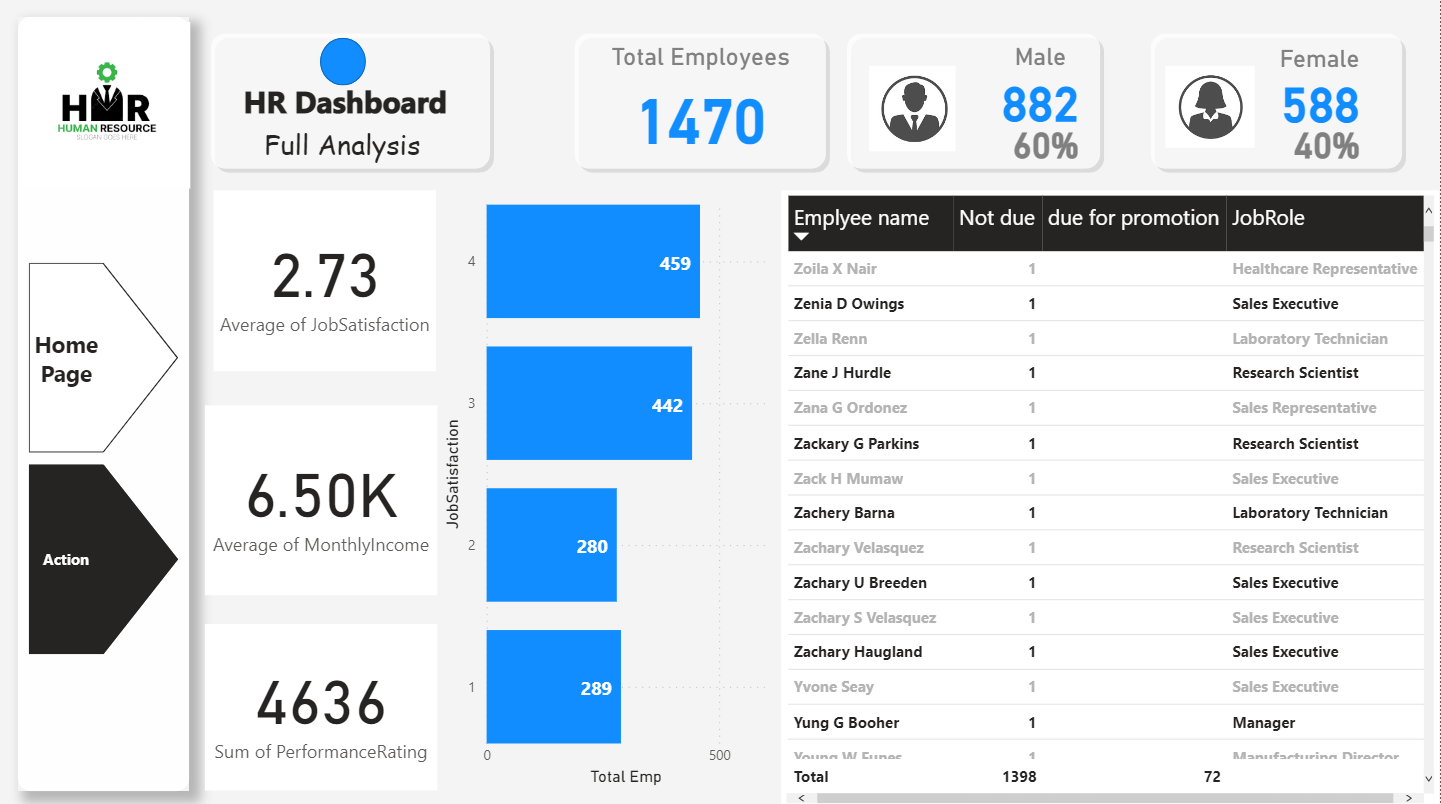

Layout of this report page (visuals, bound fields, positions):
{"tool":"powerbi","page":{"name":"Action","canvas":[1280,720],"ordinal":1},"visuals":[{"type":"shape","box":[15.7,15.7,153.2,688.6],"z":0},{"type":"shape","box":[182.1,25.3,258.1,130.3],"z":1000},{"type":"shape","box":[505.3,25.3,234,130.3],"z":3000},{"type":"shape","box":[747.7,25.3,235.2,130.3],"z":4000},{"type":"shape","box":[1017.9,25.3,234,130.3],"z":5000},{"type":"textbox","box":[190.6,67.5,234,48.2],"z":11000},{"type":"textbox","box":[202.6,107.3,203.8,48.2],"z":12000},{"type":"shape","box":[284.6,35,41,42.2],"z":13000},{"type":"card","title":"Total Employees","fields":{"Values":["New Measures.Total Emp"]},"box":[517.5,38.8,210,103.8],"z":14000},{"type":"card","title":"Male","fields":{"Values":["New Measures.Male"]},"box":[855.1,38.6,138.7,77.2],"z":15000},{"type":"card","title":"Female","fields":{"Values":["New Measures.Female"]},"box":[1107.1,39.8,132.7,76],"z":16000},{"type":"card","title":"Male","fields":{"Values":["New Measures.%mal"]},"box":[865.9,107.3,127.8,41],"z":17000},{"type":"card","title":"Male","fields":{"Values":["New Measures.%femal"]},"box":[1107.1,107.3,145.9,41],"z":18000},{"type":"image","box":[1031.2,47,89.2,97.7],"z":19000},{"type":"image","box":[768.2,47,86.8,101.3],"z":20000},{"type":"tableEx","fields":{"Values":["HR employee data.Emplyee name","New Measures.Not due","New Measures.due for promotion","HR Analytics Data.JobRole"]},"box":[694.7,170.1,584.9,549.9],"z":20001},{"type":"card","fields":{"Values":["HR Analytics Data.JobSatisfaction"]},"box":[190.6,170.1,197.8,160.4],"z":20002},{"type":"card","fields":{"Values":["HR Analytics Data.MonthlyIncome"]},"box":[182.1,360.6,206.2,168.8],"z":20003},{"type":"card","fields":{"Values":["HR Analytics Data.PerformanceRating"]},"box":[182.1,556,206.2,148.3],"z":20004},{"type":"barChart","fields":{"Y":["New Measures.Total Emp"],"Category":["HR Analytics Data.JobSatisfaction"]},"box":[388.3,170.1,306.3,534.3],"z":20005},{"type":"pageNavigator","box":[25.3,234,133.9,349.7],"z":20006},{"type":"image","box":[15.7,15.7,159.2,158],"z":20007}]}

Visuals, with their boxes in screenshot pixels (x1, y1, x2, y2), scaled from the page's 1280x720 canvas onto the 1441x804 screenshot:
shape: box=[18, 18, 190, 786]
shape: box=[205, 28, 496, 174]
shape: box=[569, 28, 832, 174]
shape: box=[842, 28, 1107, 174]
shape: box=[1146, 28, 1409, 174]
textbox: box=[215, 75, 478, 129]
textbox: box=[228, 120, 458, 174]
shape: box=[320, 39, 367, 86]
"Total Employees" card: box=[583, 43, 819, 159]
"Male" card: box=[963, 43, 1119, 129]
"Female" card: box=[1246, 44, 1396, 129]
"Male" card: box=[975, 120, 1119, 166]
"Male" card: box=[1246, 120, 1411, 166]
image: box=[1161, 52, 1261, 162]
image: box=[865, 52, 963, 166]
tableEx - HR employee data.Emplyee name x New Measures.Not due: box=[782, 190, 1440, 803]
card - HR Analytics Data.JobSatisfaction: box=[215, 190, 437, 369]
card - HR Analytics Data.MonthlyIncome: box=[205, 403, 437, 591]
card - HR Analytics Data.PerformanceRating: box=[205, 621, 437, 786]
barChart - New Measures.Total Emp x HR Analytics Data.JobSatisfaction: box=[437, 190, 782, 787]
pageNavigator: box=[28, 261, 179, 652]
image: box=[18, 18, 197, 194]
